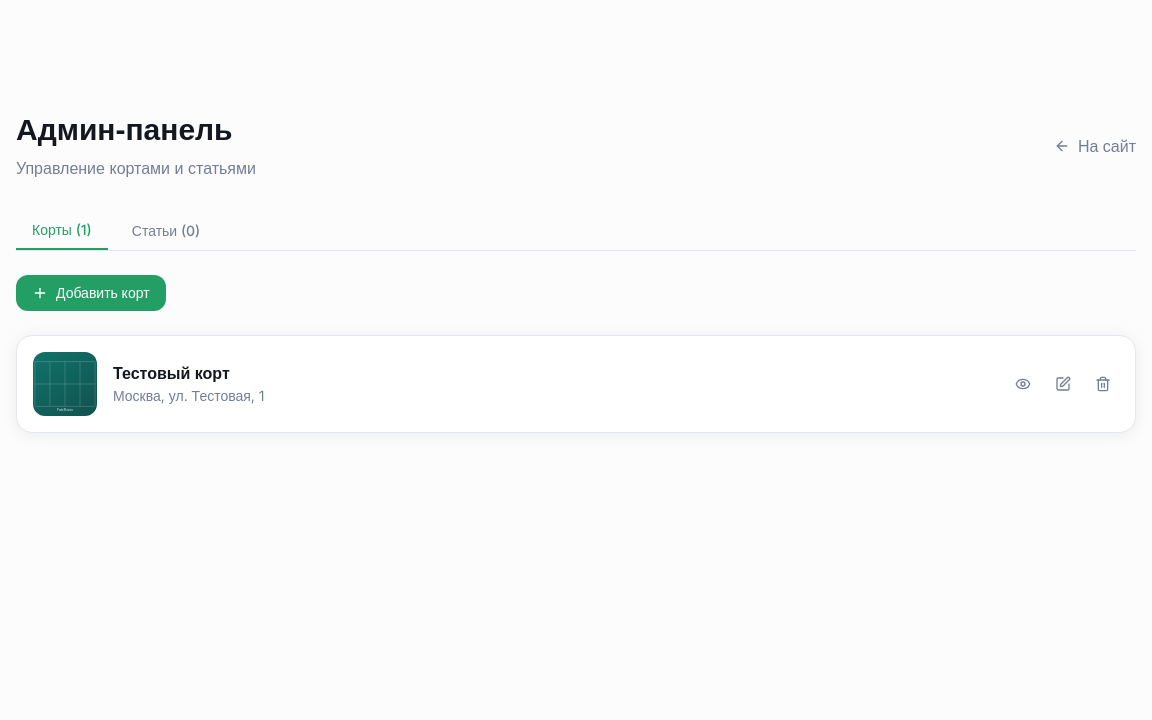
Test: AdminClient — формы добавления/редактирования › открывает форму добавления корта со всеми полями
Click the button "Добавить корт" at (91, 293), box 16,275 -> 166,311
(page scrolled)
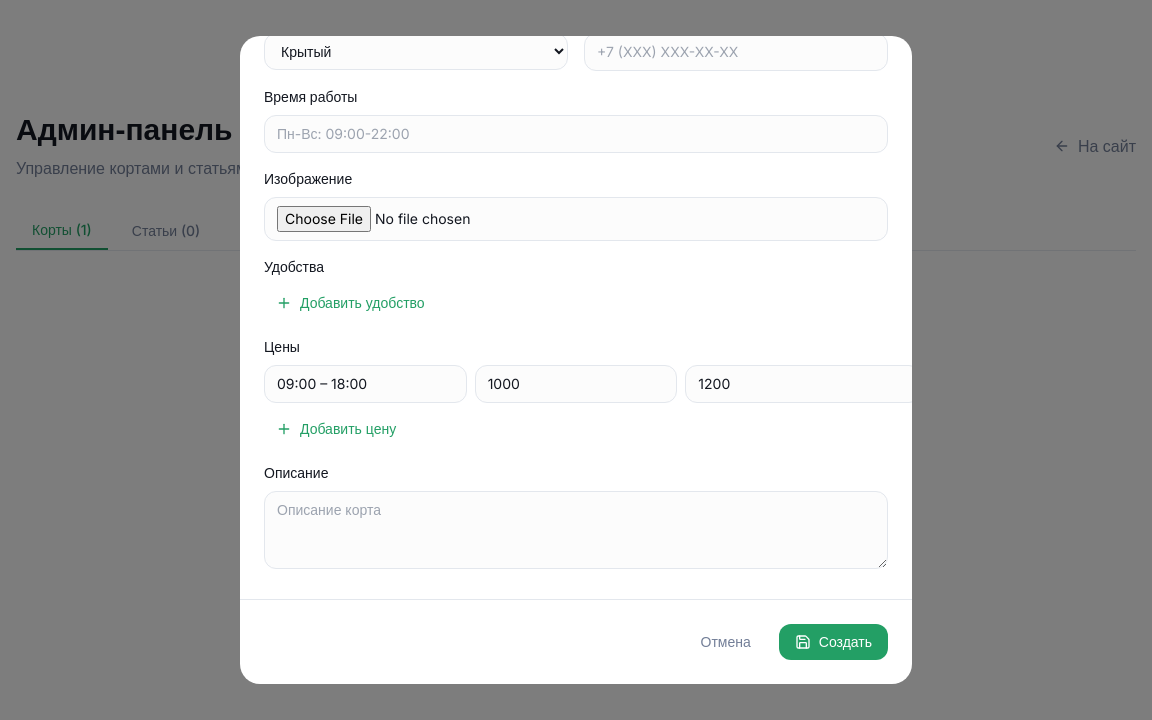
Expected: the button "Создать" is shown, 779,624 -> 888,660
Expected: the field with placeholder "+7 (XXX) XXX-XX-XX" is shown, 584,36 -> 888,71
Expected: the button "Добавить удобство" is shown, 264,285 -> 437,321
